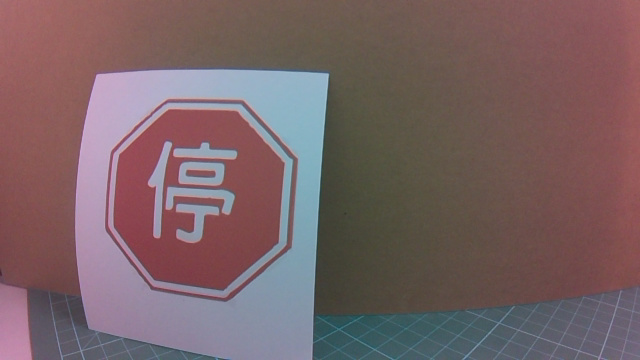stop: (101, 97, 287, 303)
